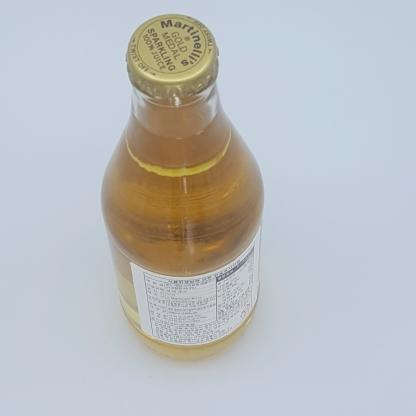------------------296ML: (101, 14, 264, 361)
